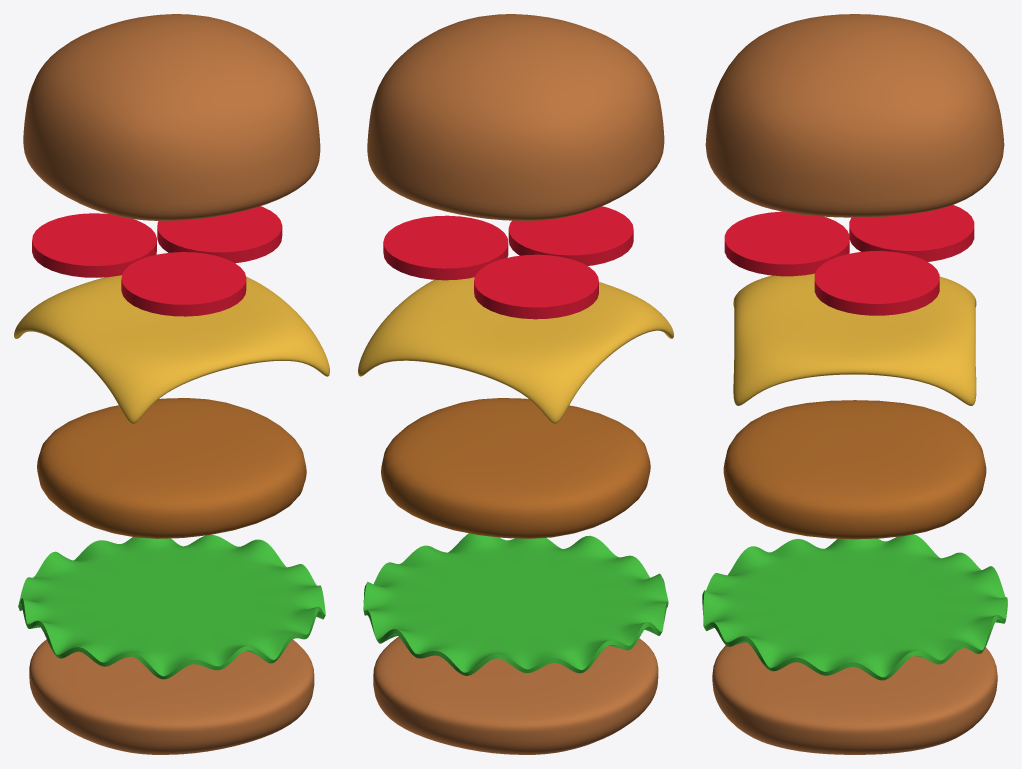
Rendered from burger.gltf.
3 renders of one model, left to right at view 1: azimuth 30°, elevation 25°; view 2: azimuth 150°, elevation 25°; view 3: azimuth 270°, elevation 25°, orthographic.
Visible parts, largest first — view 1: Cube.011, Окружность.006, Cube.010, Cube.009, Куб.070, Окружность.007; view 2: Cube.011, Окружность.006, Cube.010, Cube.009, Куб.070, Окружность.007; view 3: Cube.011, Окружность.006, Cube.010, Cube.009, Куб.070, Окружность.007.
Boxes of the visible parts, left/top/right/bottom form: Cube.011: left=23, top=14, right=320, bottom=220; Окружность.006: left=18, top=535, right=325, bottom=679; Cube.010: left=37, top=398, right=306, bottom=538; Cube.009: left=29, top=639, right=314, bottom=754; Куб.070: left=14, top=275, right=329, bottom=423; Окружность.007: left=32, top=206, right=282, bottom=316; Cube.011: left=367, top=14, right=664, bottom=220; Окружность.006: left=363, top=533, right=668, bottom=675; Cube.010: left=381, top=398, right=650, bottom=538; Cube.009: left=373, top=636, right=658, bottom=754; Куб.070: left=358, top=277, right=673, bottom=423; Окружность.007: left=383, top=206, right=633, bottom=319; Cube.011: left=705, top=14, right=1004, bottom=217; Окружность.006: left=702, top=534, right=1007, bottom=680; Cube.010: left=723, top=400, right=986, bottom=539; Cube.009: left=712, top=642, right=997, bottom=754; Куб.070: left=733, top=273, right=976, bottom=405; Окружность.007: left=724, top=205, right=974, bottom=315.
Bounding box in the file's own units: 0.1272 × 0.3108 × 0.1272.
